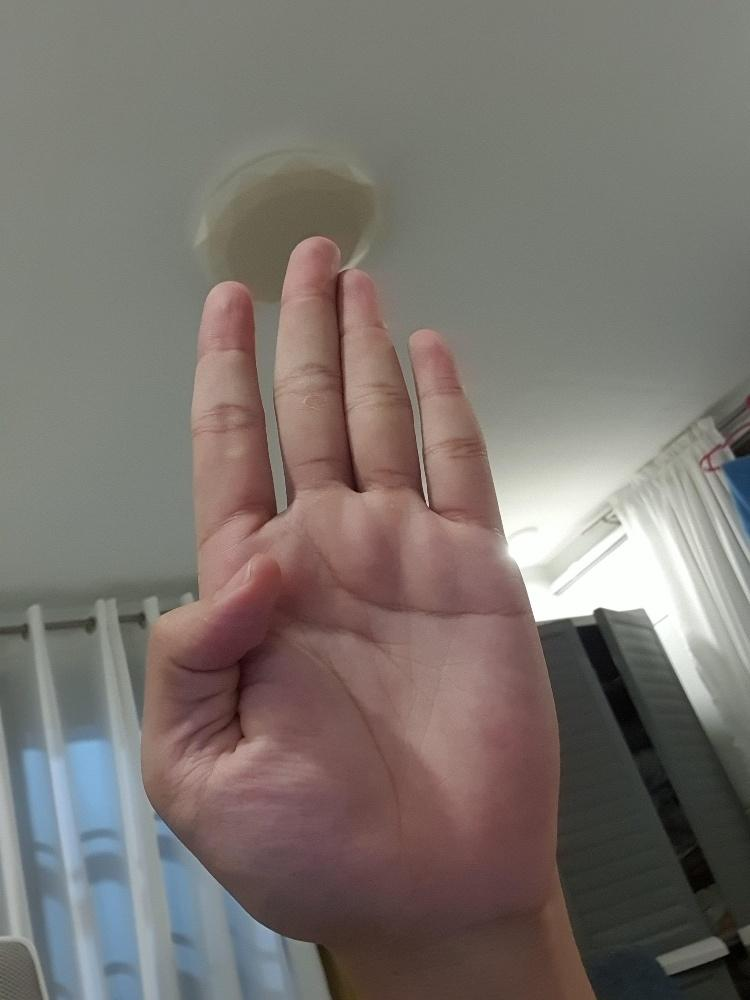b: (136, 228, 566, 948)
